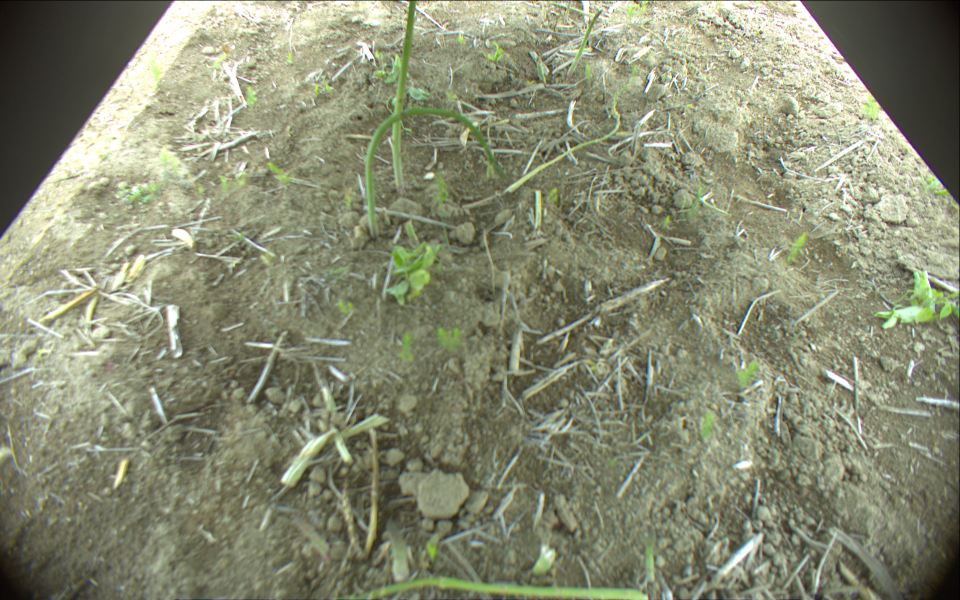aspa: (365, 108, 501, 237), (504, 85, 634, 195), (342, 577, 648, 597), (391, 1, 419, 192), (568, 9, 602, 78), (644, 524, 658, 580), (533, 187, 544, 230), (535, 57, 546, 82)
